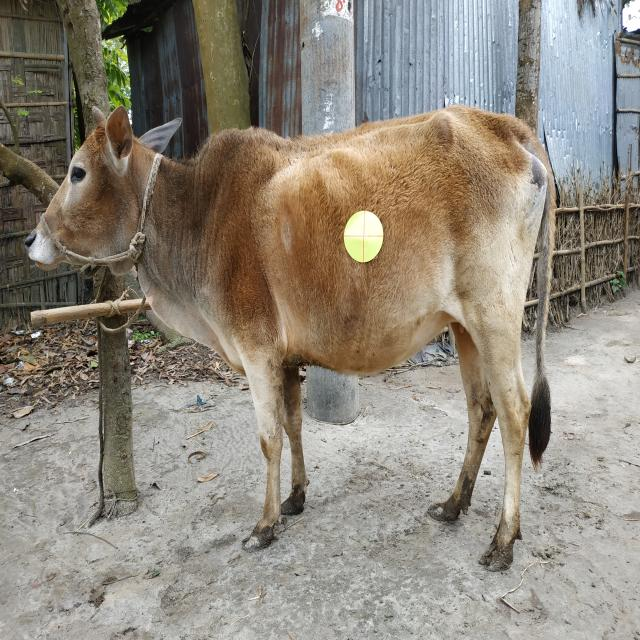badan_sapi: (200, 126, 532, 374)
sapi: (16, 82, 585, 582)
